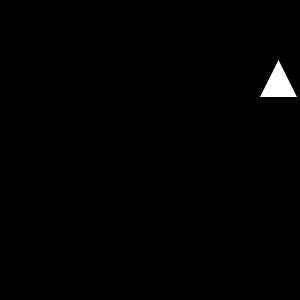triangle: (260, 60, 297, 97)
